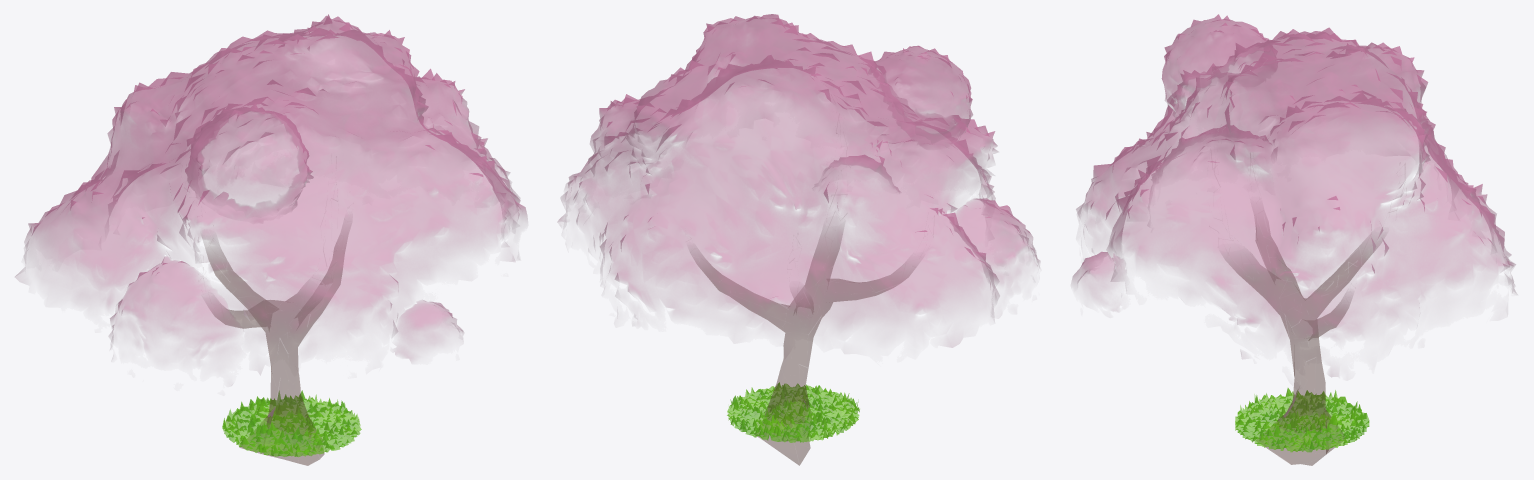
Rendered from tree.gltf.
3 views of the same model, side by side, from view 1: azimuth 30°, elevation 25°; view 2: azimuth 150°, elevation 25°; view 3: azimuth 270°, elevation 25° (orthographic). The views are drawn at different scales.
Visible parts, largest first — view 1: sakura blossom main.001, sakura tree trunk, grass; view 2: sakura blossom main.001, sakura tree trunk, grass; view 3: sakura blossom main.001, sakura tree trunk, grass.
Boxes of the visible parts, left/top/right/bottom form: sakura blossom main.001: left=15, top=14, right=527, bottom=360; sakura tree trunk: left=203, top=235, right=347, bottom=465; grass: left=222, top=390, right=361, bottom=457; sakura blossom main.001: left=558, top=14, right=1040, bottom=347; sakura tree trunk: left=695, top=234, right=911, bottom=465; grass: left=727, top=382, right=859, bottom=442; sakura blossom main.001: left=1071, top=14, right=1516, bottom=376; sakura tree trunk: left=1230, top=225, right=1378, bottom=465; grass: left=1235, top=388, right=1369, bottom=452.
Bounding box in the file's own units: 13.54 × 12.02 × 11.75.
Materials: 3 (3 with a texture image).
